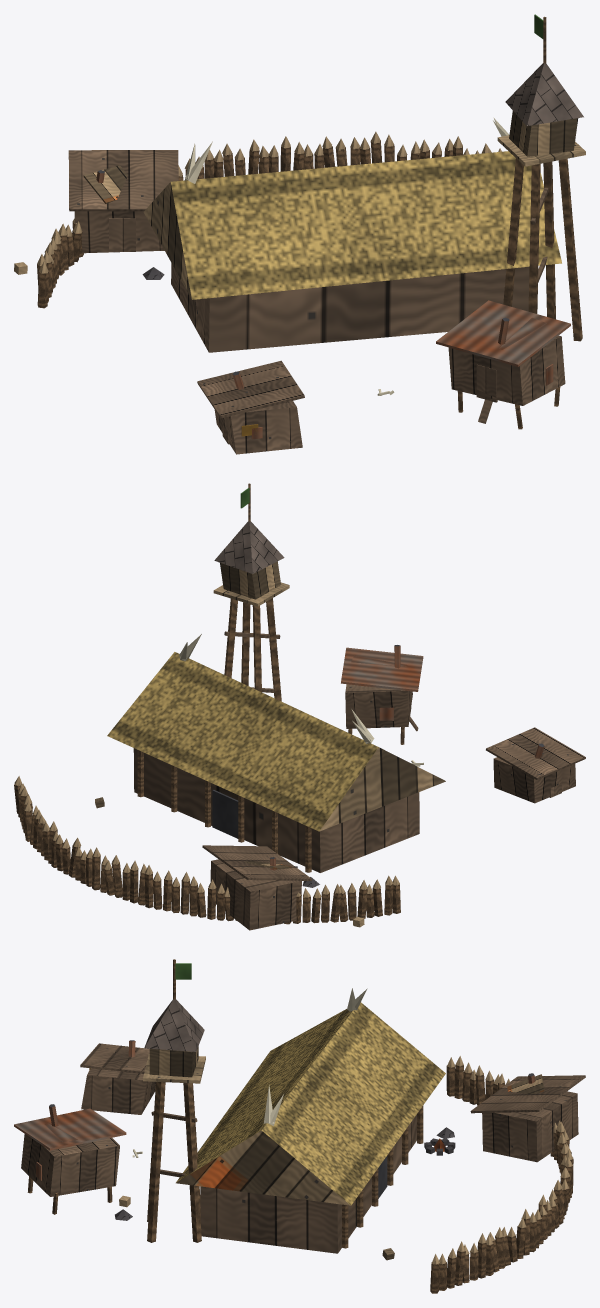
Rendered from cm_goblin_noble_a.glb.
3 renders of one model, top to bottom at view 1: azimuth 30°, elevation 25°; view 2: azimuth 150°, elevation 25°; view 3: azimuth 270°, elevation 25°, orthographic. The views are drawn at different scales.
Visible parts, largest first — view 1: cm_goblin_noble_a; view 2: cm_goblin_noble_a; view 3: cm_goblin_noble_a.
Part boxes in pixels (<box>): cm_goblin_noble_a: <box>14,14,585,454</box>; cm_goblin_noble_a: <box>14,483,585,930</box>; cm_goblin_noble_a: <box>14,959,585,1293</box>.
Size of the model in its own units: 1.74 by 1.07 by 1.99.
Materials: 1 (1 with a texture image).
